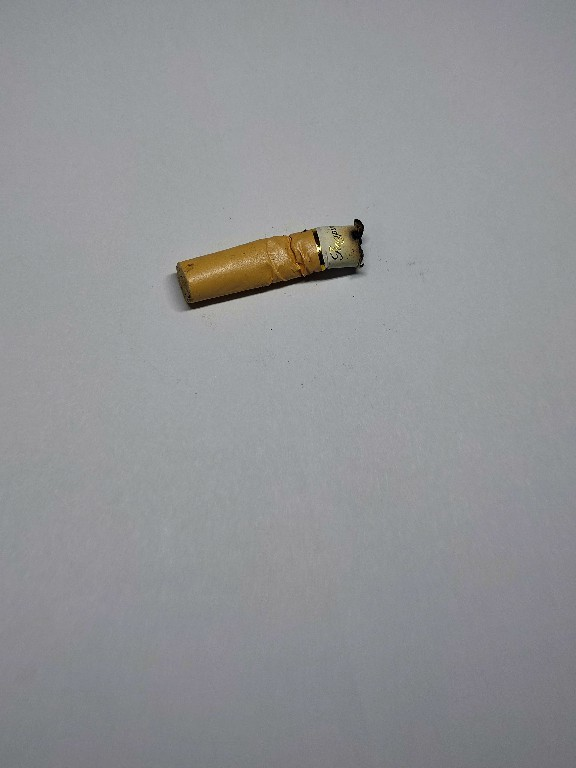cigarette: (170, 215, 372, 313)
